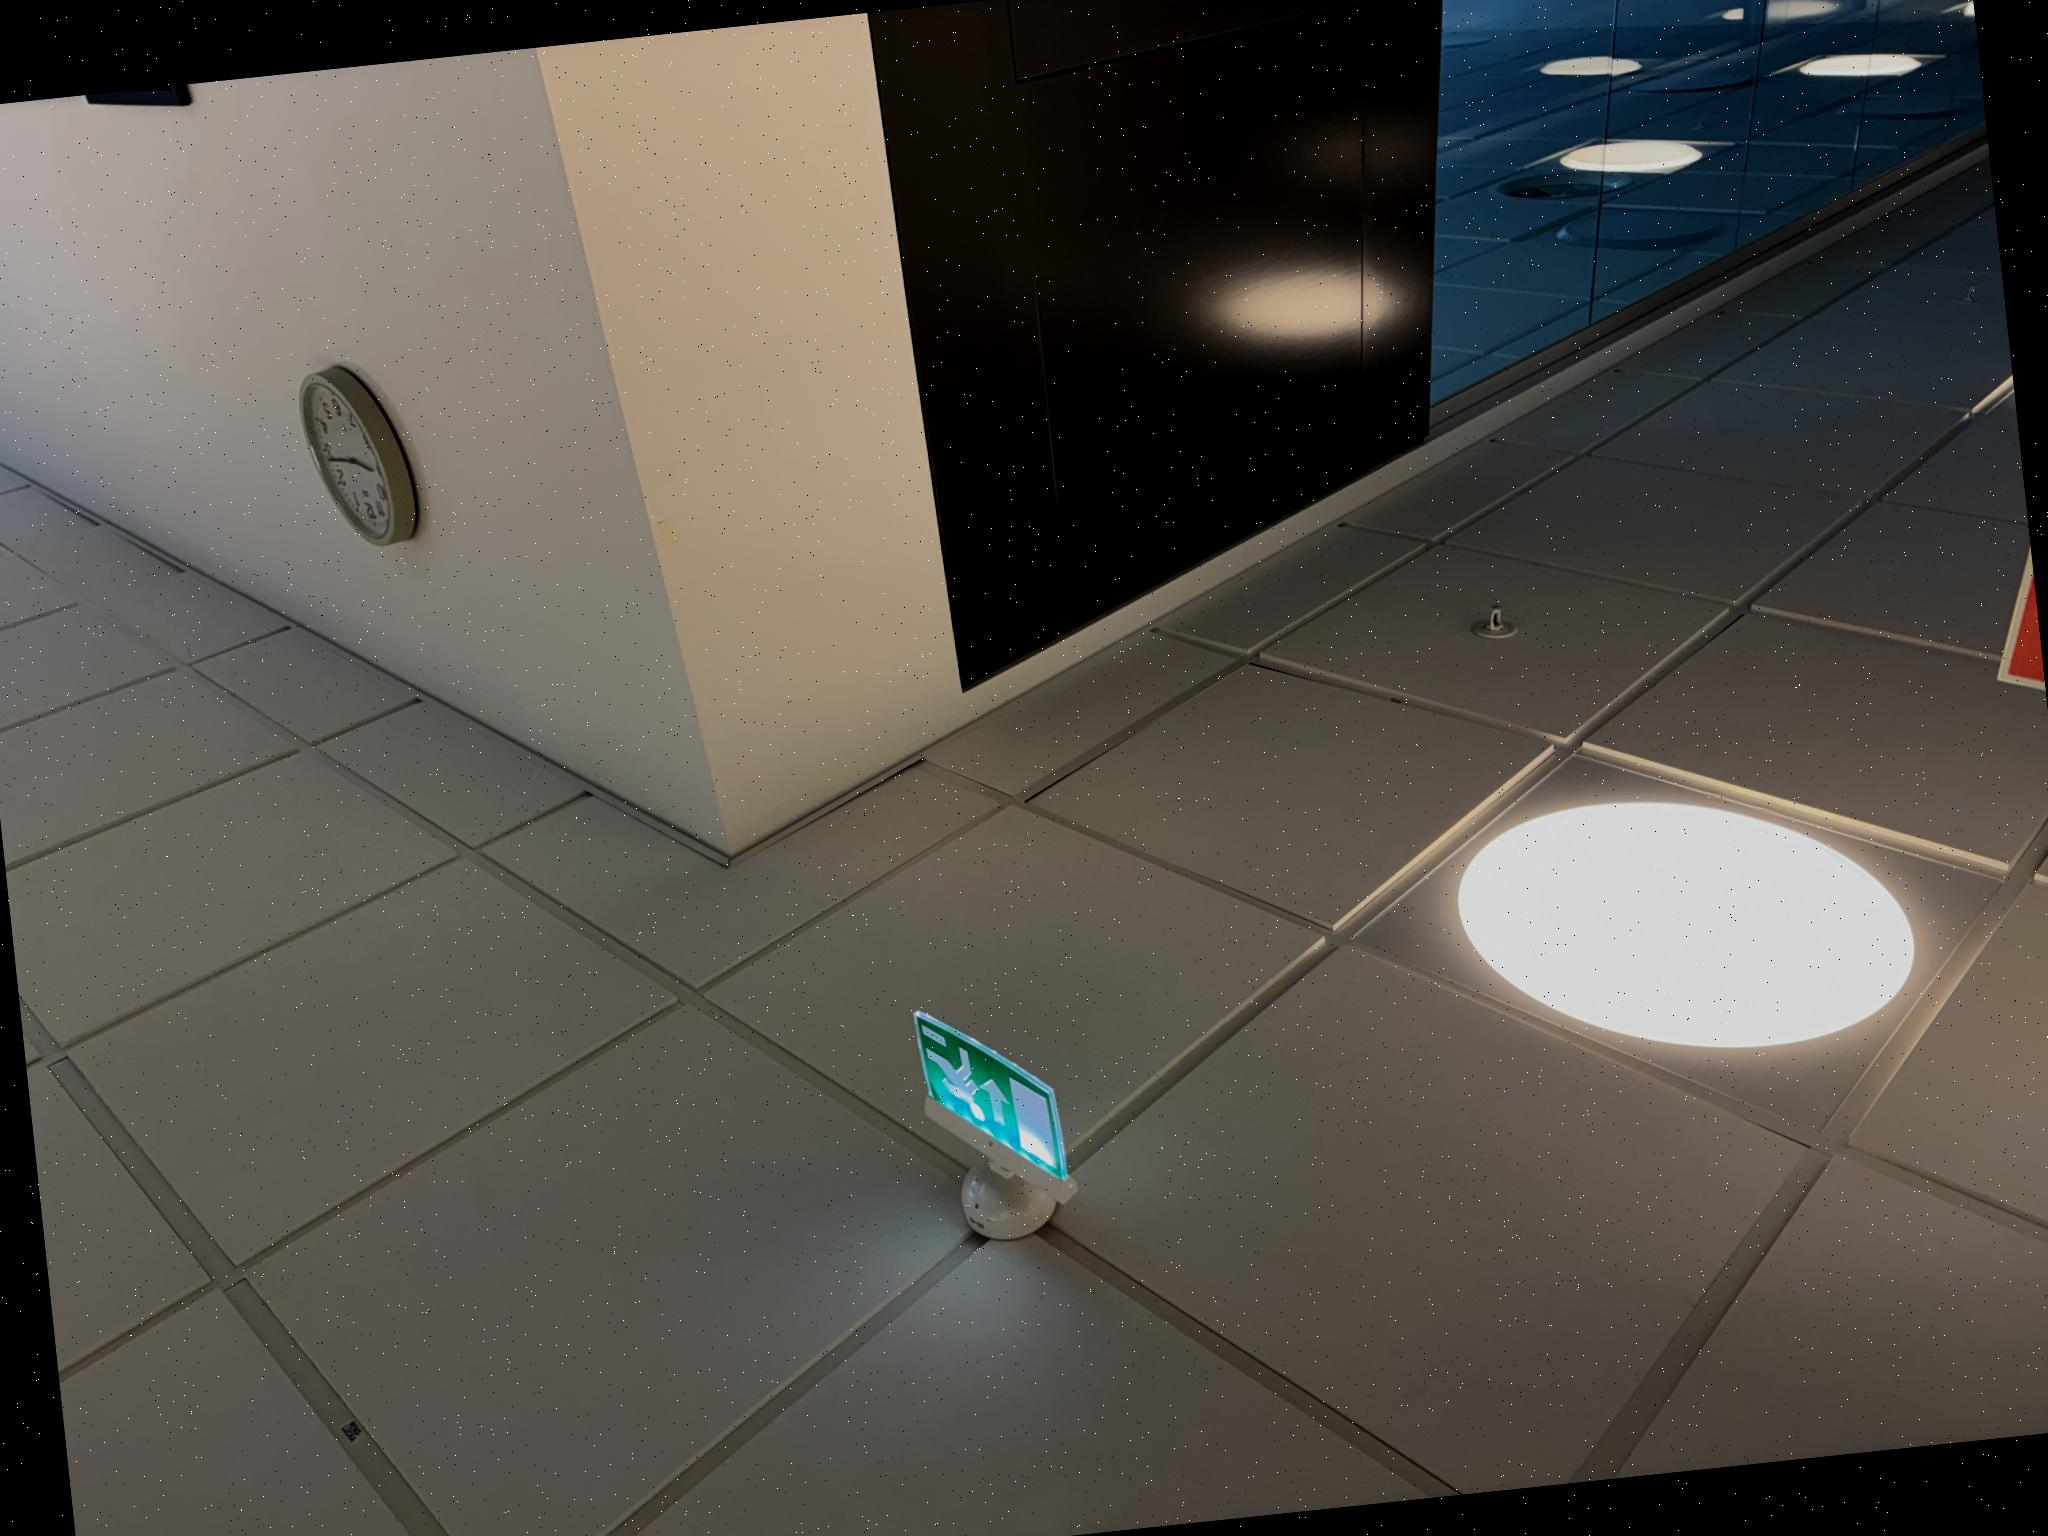exit_sign: (908, 1023, 1074, 1179)
